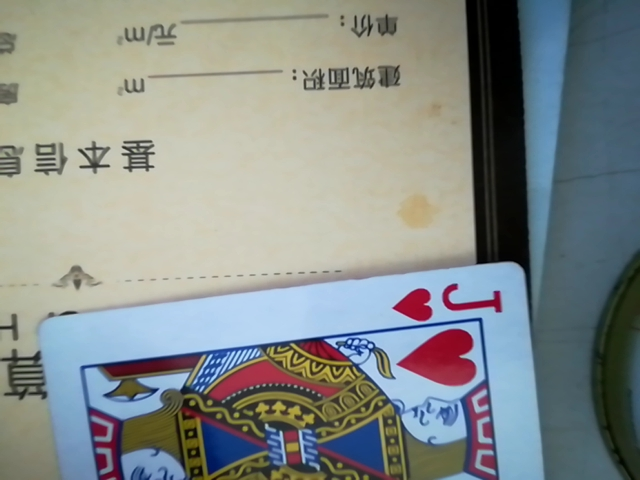hx j: (30, 255, 565, 480)
